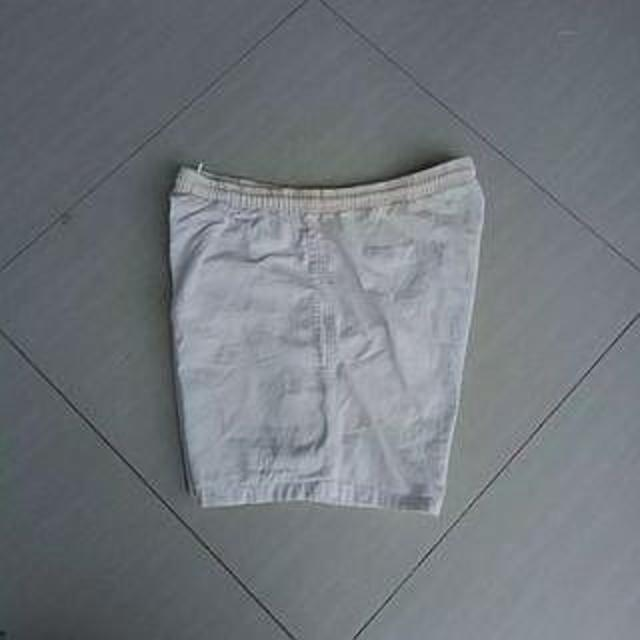SHORT: (145, 148, 520, 525)
